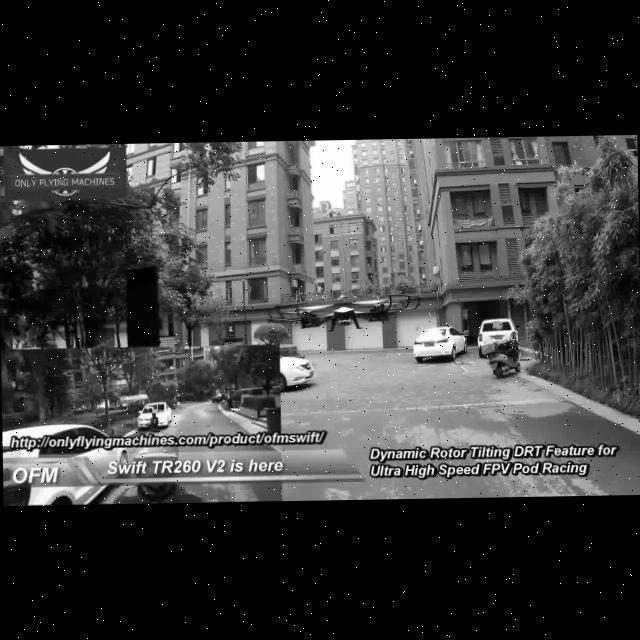Drons: (253, 280, 422, 334)
